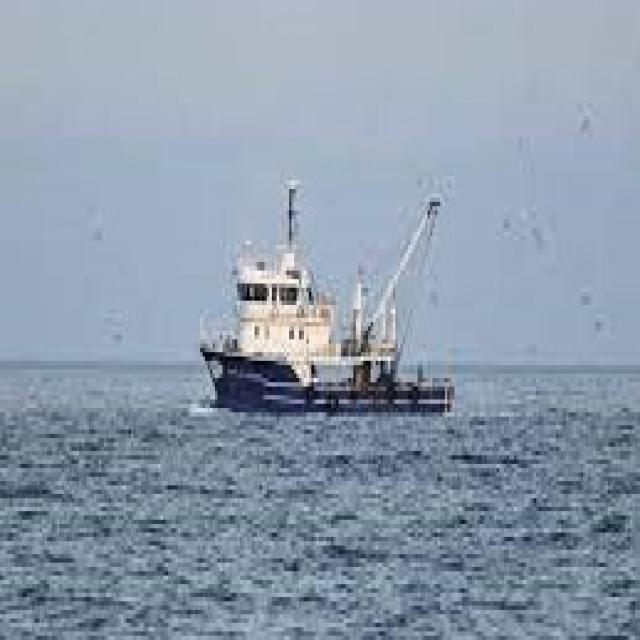fishing boat: (188, 167, 464, 413)
